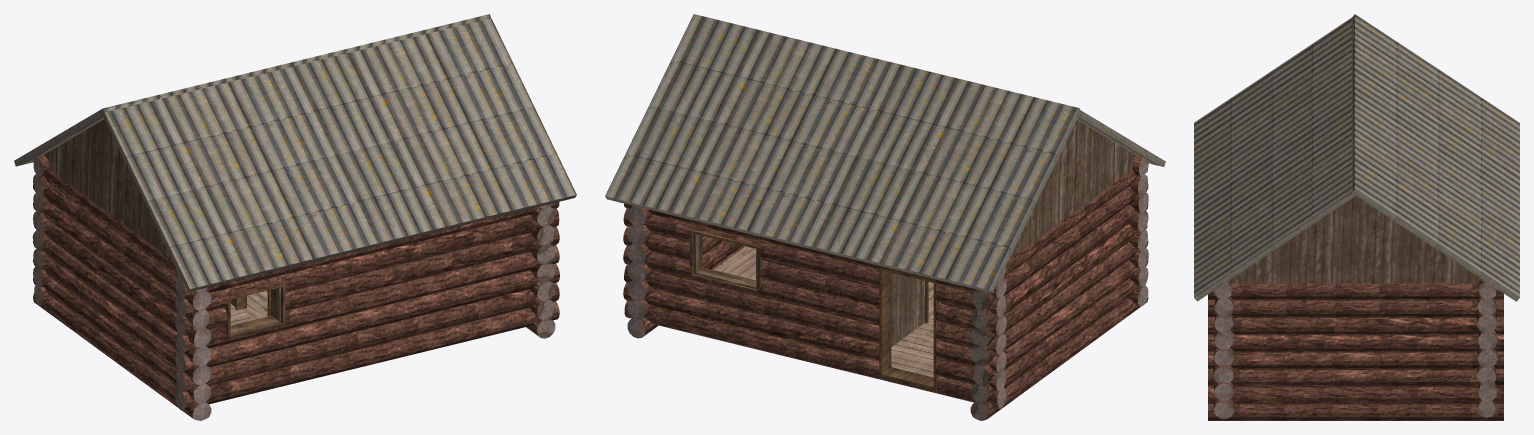
Rendered from ДОМ собранный.fbx.
3 views of the same model, side by side, from view 1: azimuth 30°, elevation 25°; view 2: azimuth 150°, elevation 25°; view 3: azimuth 270°, elevation 25° (orthographic). The views are drawn at different scales.
Visible parts, largest first — view 1: Cube.032, Cube.021, Cube.035; view 2: Cube.032, Cube.021, Cube.035; view 3: Cube.032, Cube.021.
Part boxes in pixels (box(x1,y1,x2,y2)): Cube.032: box(14, 14, 576, 292); Cube.021: box(32, 155, 559, 420); Cube.035: box(230, 289, 272, 325); Cube.032: box(605, 14, 1165, 293); Cube.021: box(623, 156, 1148, 420); Cube.035: box(653, 246, 933, 377); Cube.032: box(1194, 14, 1519, 301); Cube.021: box(1208, 278, 1503, 420).
Size of the model in its own units: 4116 by 2649 by 3239.
